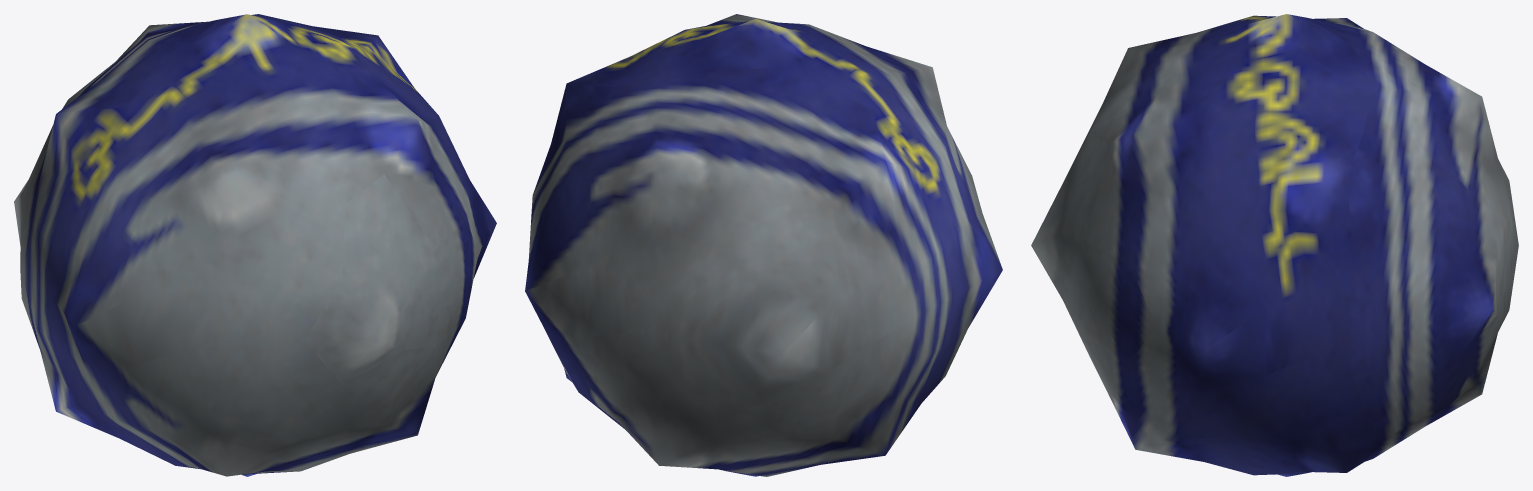
Rendered from blitzball.dae.
The picture shows the model from 3 angles, left to right: view 1: azimuth 30°, elevation 25°; view 2: azimuth 150°, elevation 25°; view 3: azimuth 270°, elevation 25°; orthographic projection.
Parts seen in each view (by area): view 1: blitzball; view 2: blitzball; view 3: blitzball.
Part boxes in pixels (x1,y1,x2,y2): blitzball: (14, 14, 496, 476); blitzball: (525, 14, 1002, 476); blitzball: (1031, 14, 1518, 476).
Bounding box in the file's own units: 0.6182 × 0.6206 × 0.65.
1 material, 1 textured.
